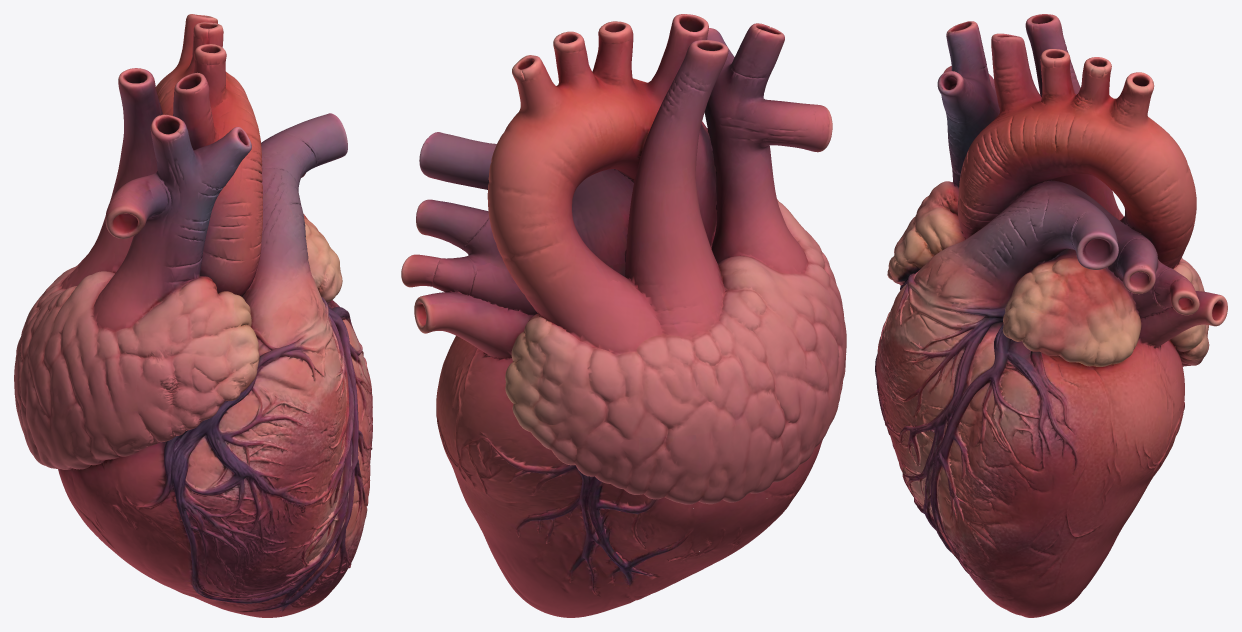
The model's file is heart.glb.
3 views of the same model, side by side, from view 1: azimuth 30°, elevation 25°; view 2: azimuth 150°, elevation 25°; view 3: azimuth 270°, elevation 25° (orthographic). The views are drawn at different scales.
Visible parts, largest first — view 1: tripo_node_9c16954f-d29a-4a4b-baf4-ba02eda23201; view 2: tripo_node_9c16954f-d29a-4a4b-baf4-ba02eda23201; view 3: tripo_node_9c16954f-d29a-4a4b-baf4-ba02eda23201.
Part boxes in pixels (bbox=[...]): tripo_node_9c16954f-d29a-4a4b-baf4-ba02eda23201: bbox=[14, 14, 372, 617]; tripo_node_9c16954f-d29a-4a4b-baf4-ba02eda23201: bbox=[401, 14, 846, 617]; tripo_node_9c16954f-d29a-4a4b-baf4-ba02eda23201: bbox=[875, 14, 1227, 617].
Bounding box in the file's own units: 0.5968 × 0.9806 × 0.5847.
1 material, 1 textured.
